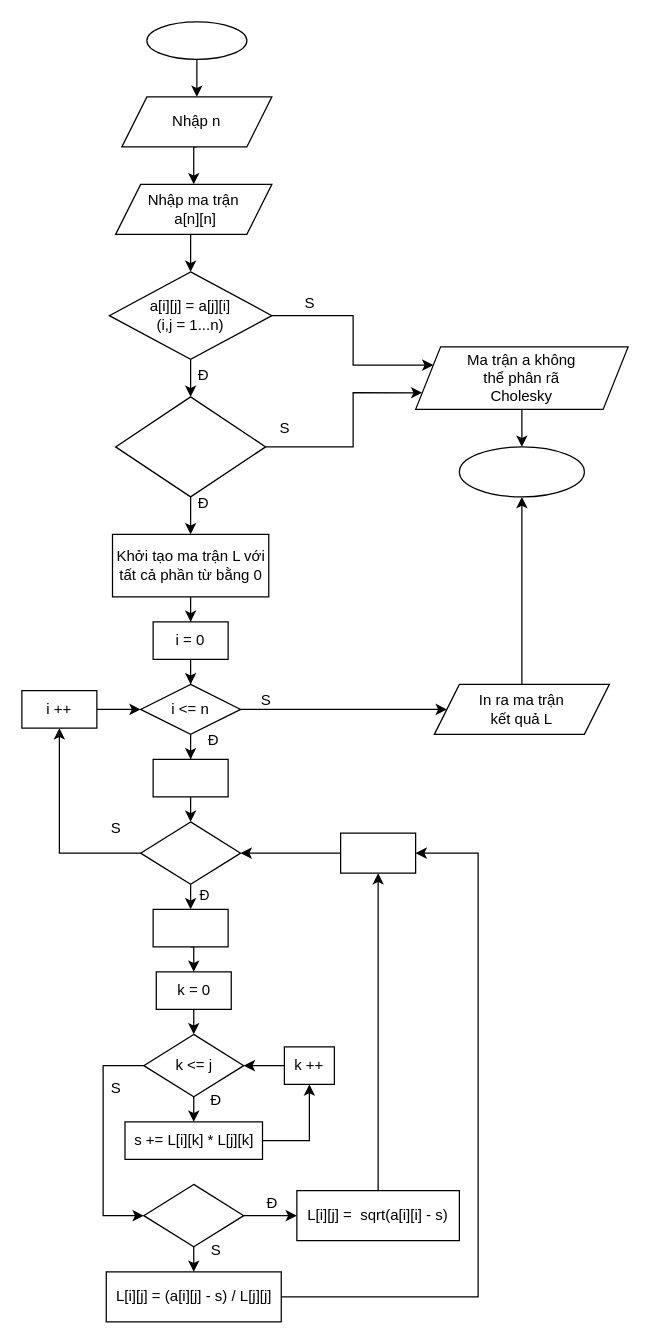
The diagram is 650 pixels wide and 1344 high, and some of its shapes have lost their labels. Each missing label, with the centre of its shape:
Bắt đầu: point (196, 40)
i == j: point (193, 1215)
j ++: point (377, 852)
j <= i: point (190, 852)
j = 0: point (190, 777)
Kết thúc: point (521, 471)
Ma trận a xác định dương: point (190, 446)
s = 0: point (190, 927)
